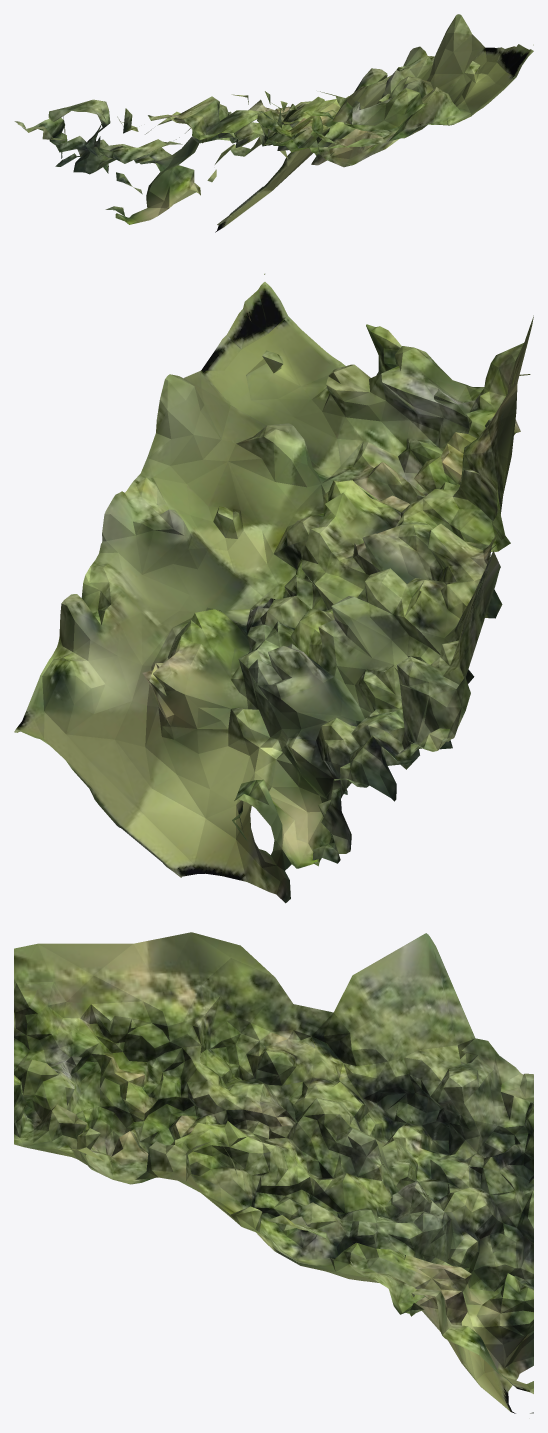
The picture shows the model from 3 angles, top to bottom: view 1: azimuth 30°, elevation 25°; view 2: azimuth 150°, elevation 25°; view 3: azimuth 270°, elevation 25°; orthographic projection. The views are drawn at different scales.
Size of the model in its own units: 104 by 92.74 by 104.
Materials: 4 (4 with a texture image).
